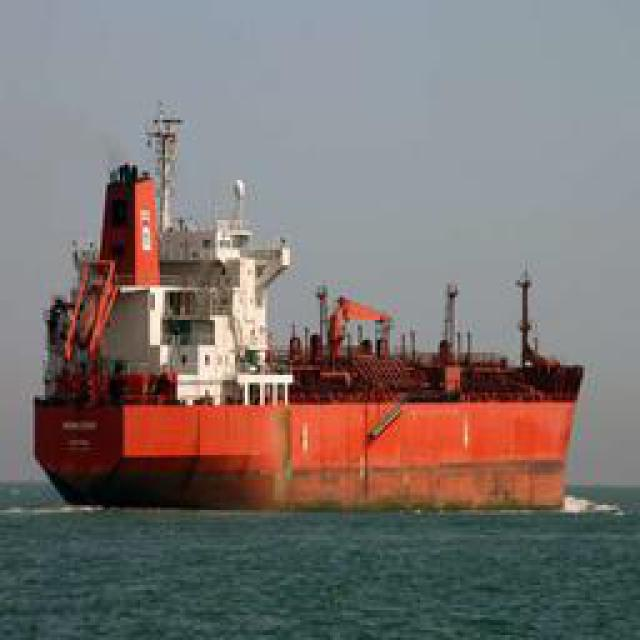Ship: (36, 123, 596, 508)
